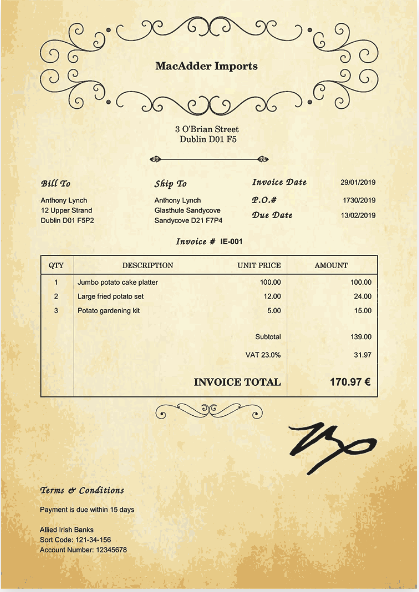Table: (36, 248, 388, 403)
